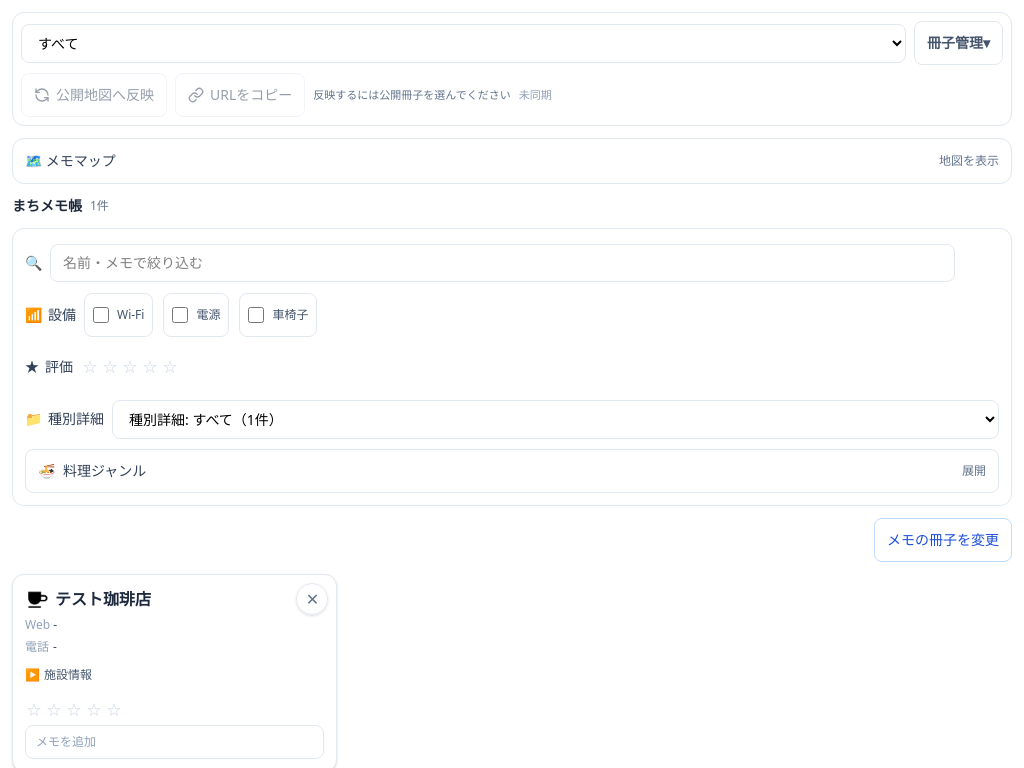
it: MemochoSection: カードの✕（2段階確認・論理削除） › キャンセルすると確認帯が消え、アイテムは変更されない
The width and height of the screenshot is (1024, 768).
Click the button named "テスト珈琲店をメモ帳から削除": (312, 599) 296,583 -> 328,615
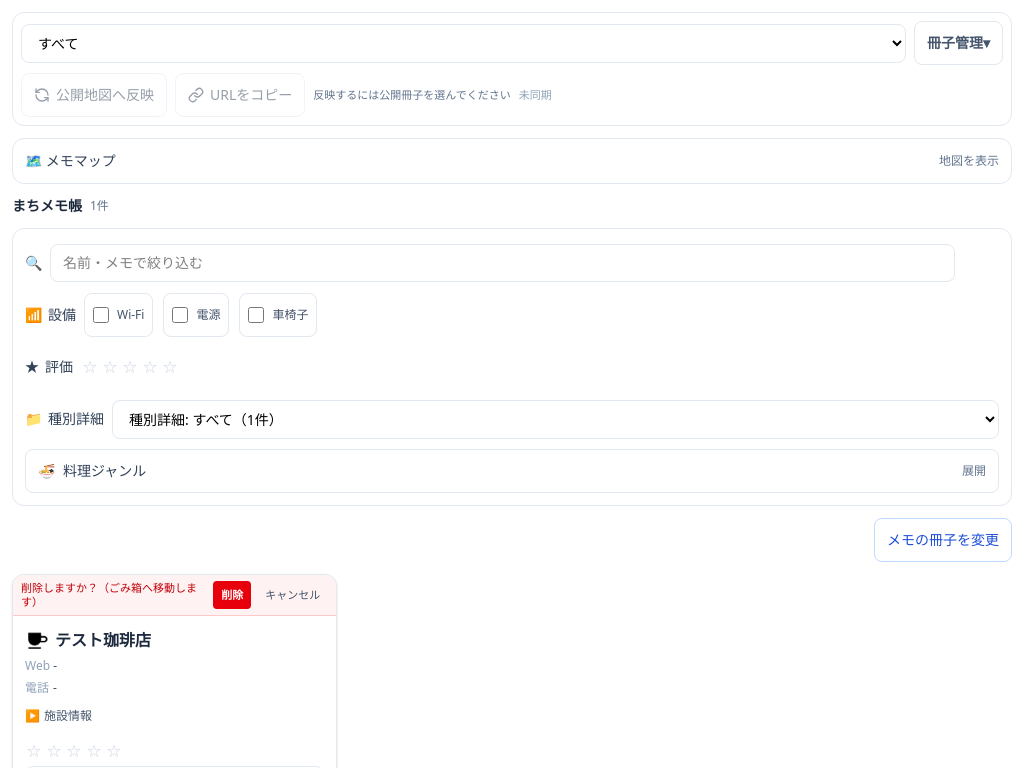
Expected: the text "削除しますか？（ごみ箱へ移動します）" is shown, 21,581 -> 207,609
Click the button "キャンセル": (293, 595) 257,581 -> 328,609
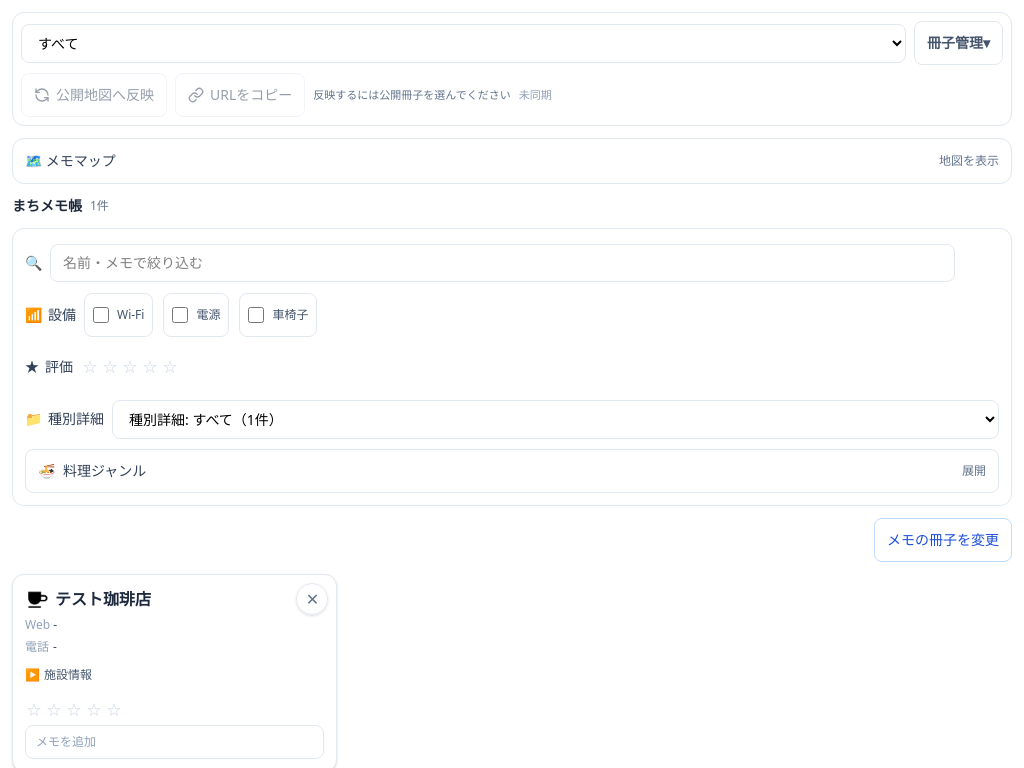
Expected: the heading "テスト珈琲店" is shown, 55,587 -> 151,611
Expected: the text "削除しますか？" is gone
